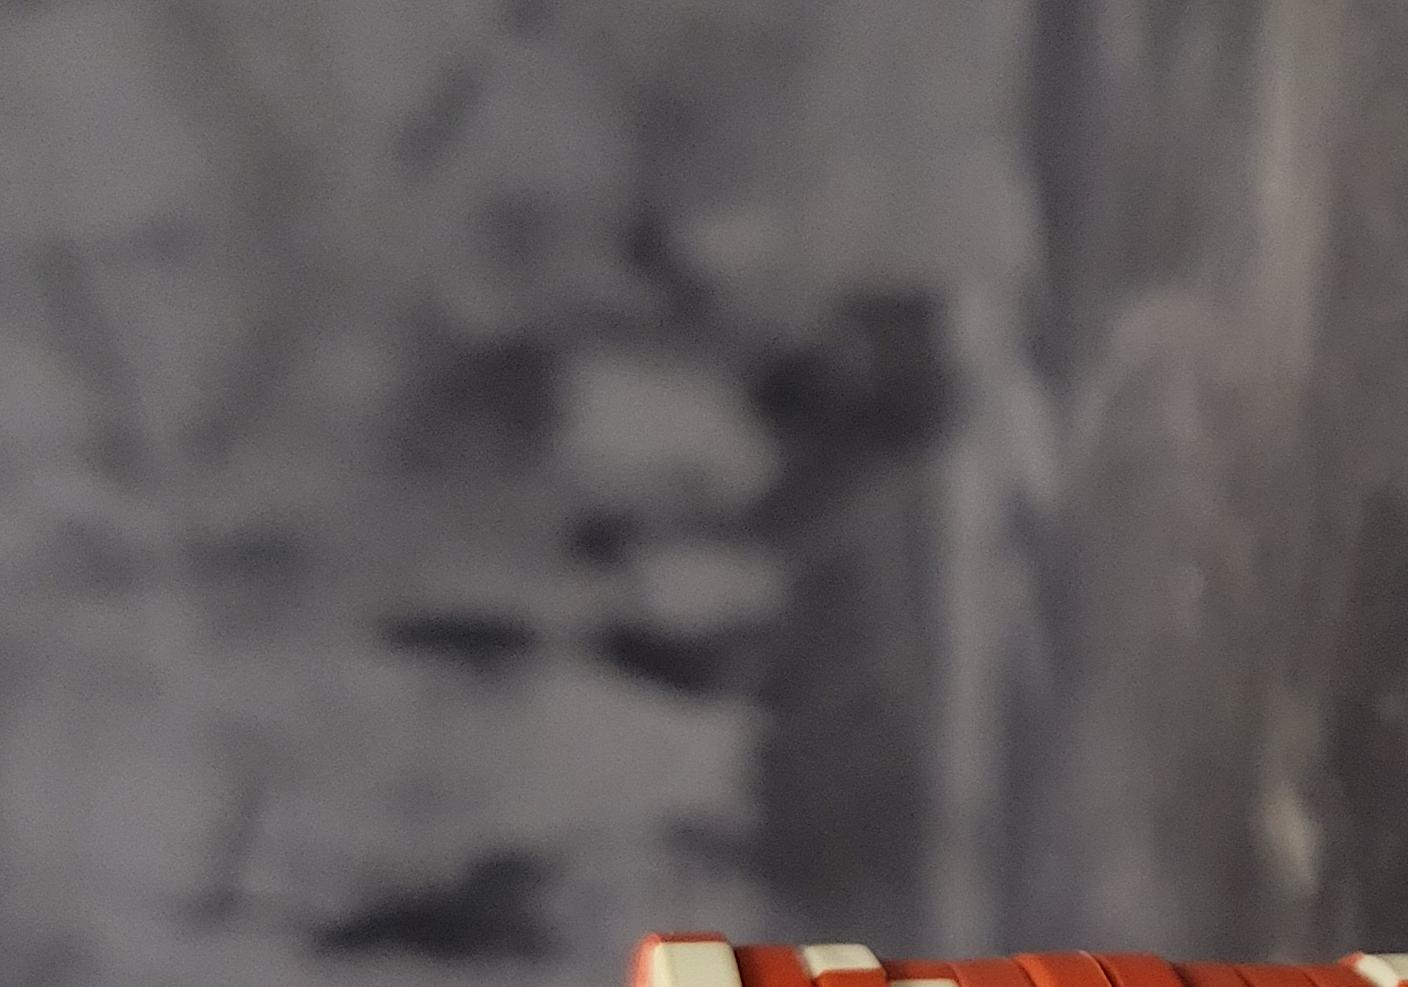Chip: (1, 246, 944, 987)
